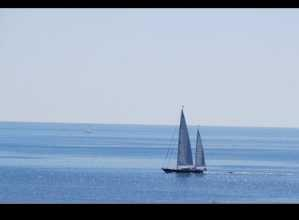fanchuan: (160, 108, 214, 174)
